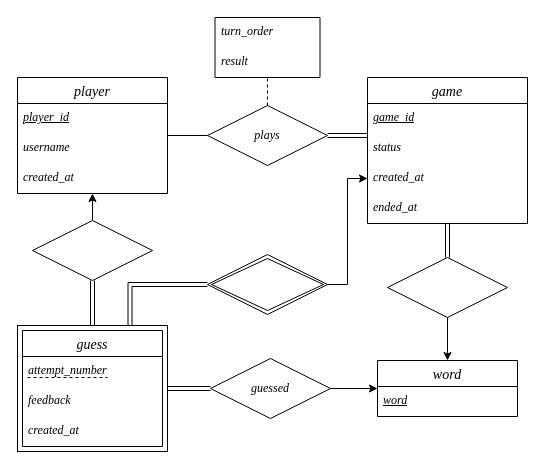
This 545x469 diagram has some shape labels left out. The shapes that lost their labels are listed below. From the top down, each one's centre as x and y in pixels, then its label:
At point 92,250: "made_by".
At point 267,284: "game_guess".
At point 447,287: "answer".
